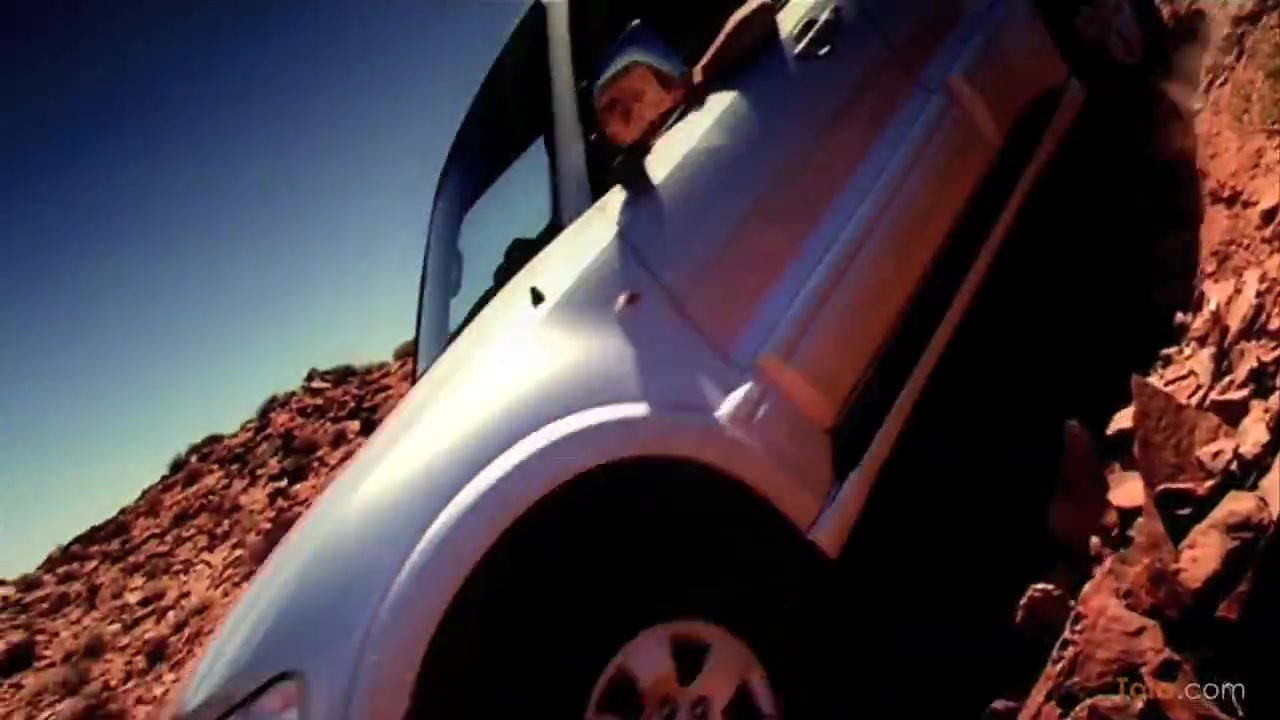car: (165, 1, 1172, 719)
